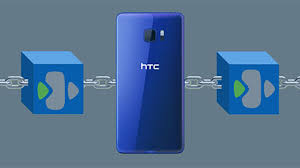htc: (114, 9, 183, 155)
